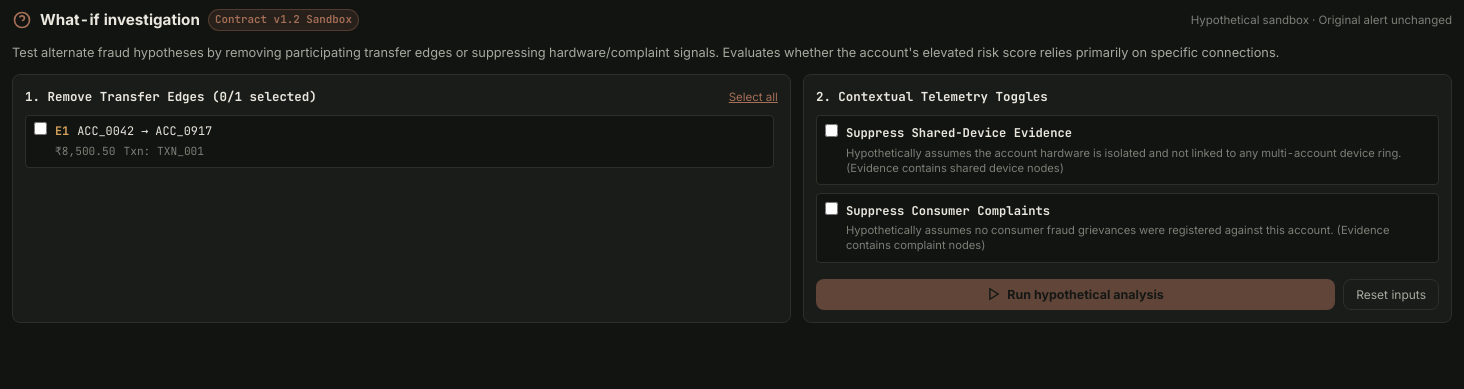
Test case: WhatIfInvestigation Component › handles backend API error gracefully
The image size is (1464, 389).
Click the checkbox with test id "toggle-suppress-devices": (831, 131) [825,124,838,137]
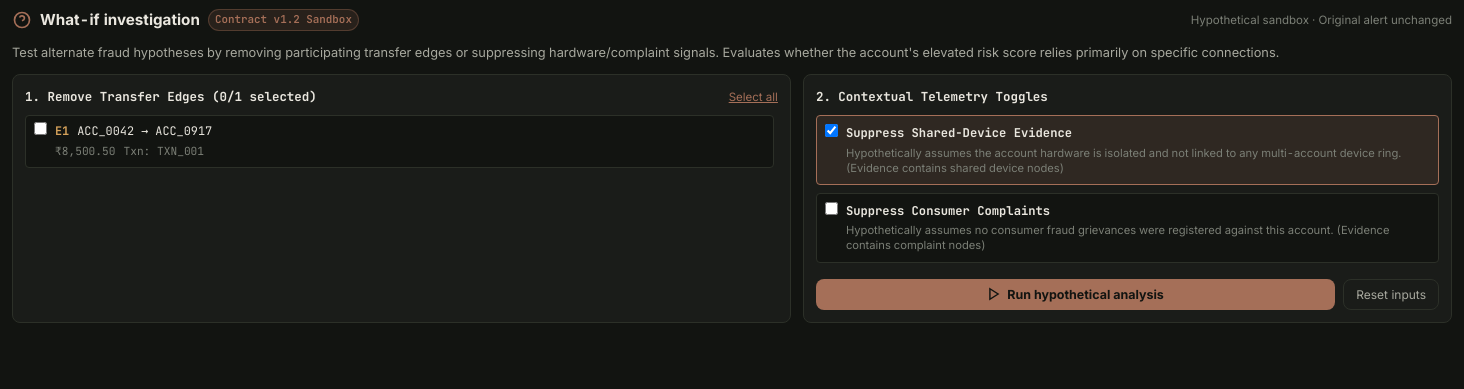
Click the button with test id "btn-run-whatif": (1076, 294) [816,278,1335,310]
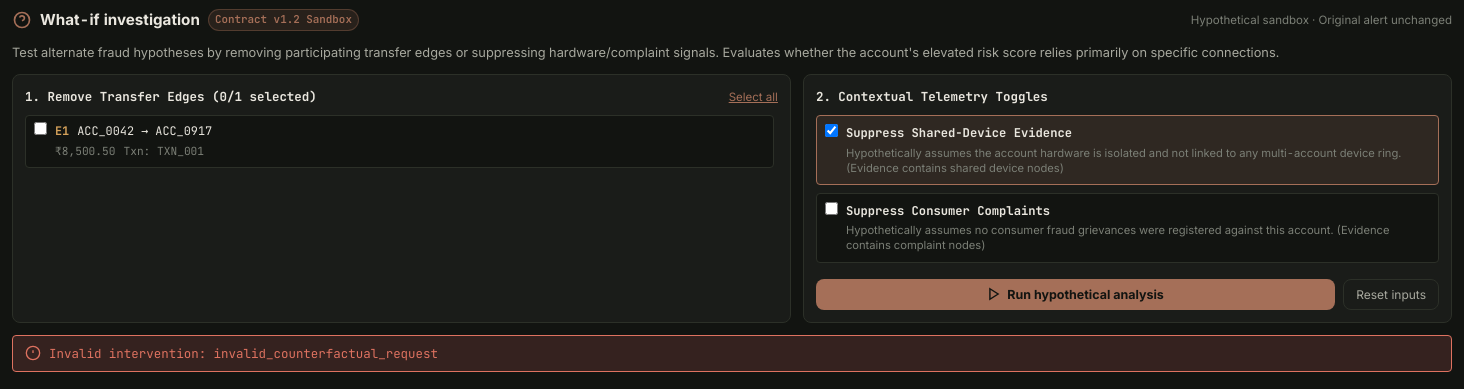
Expected: the message with test id "what-if-error-banner" reads "Invalid intervention: invalid_counterfactual_request", [49,344,438,362]
